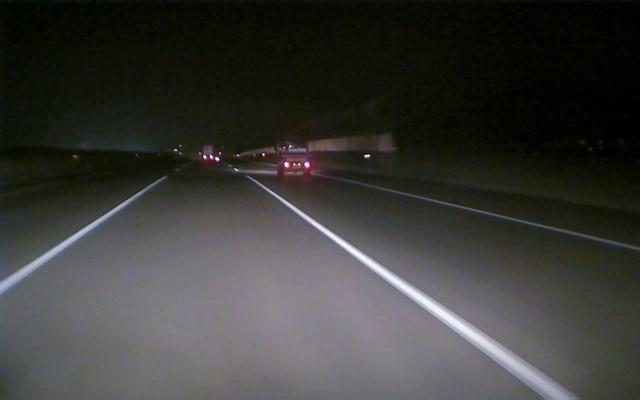lane: (259, 184, 576, 396), (3, 181, 159, 292), (377, 186, 640, 251)
